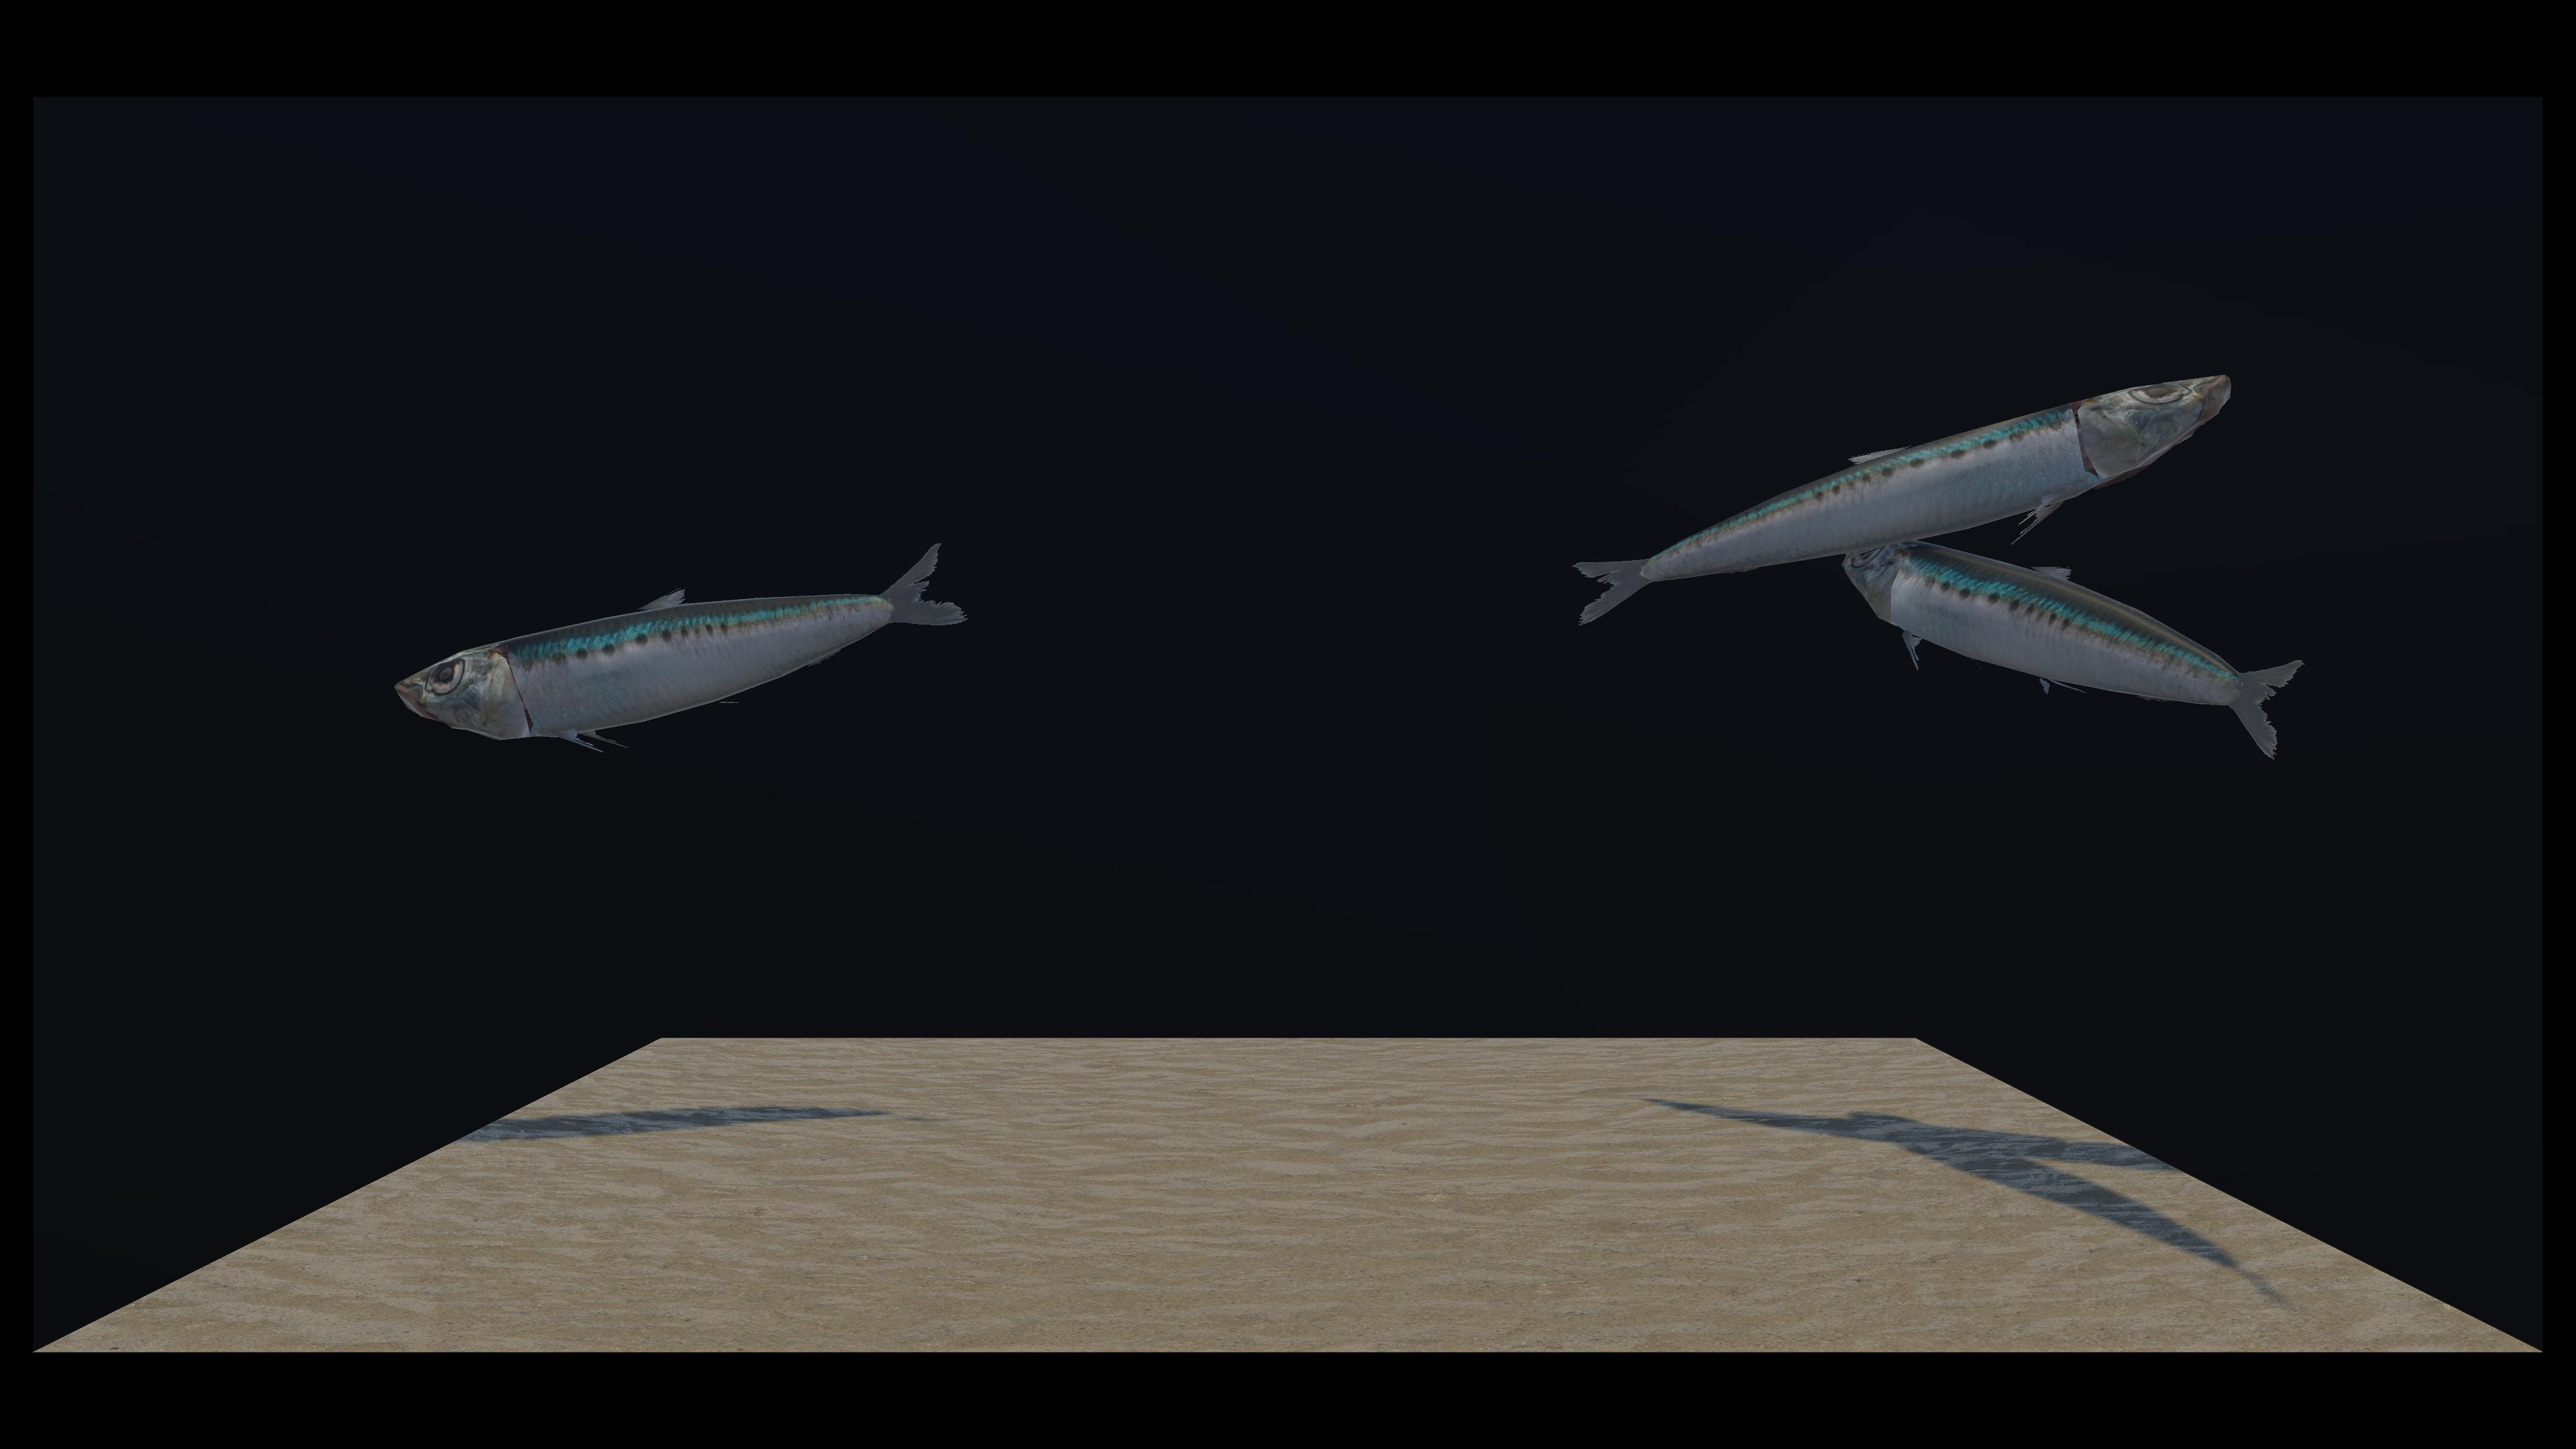Sardine_Front: (849, 540, 2312, 761), (952, 379, 2220, 623), (402, 364, 962, 757)
